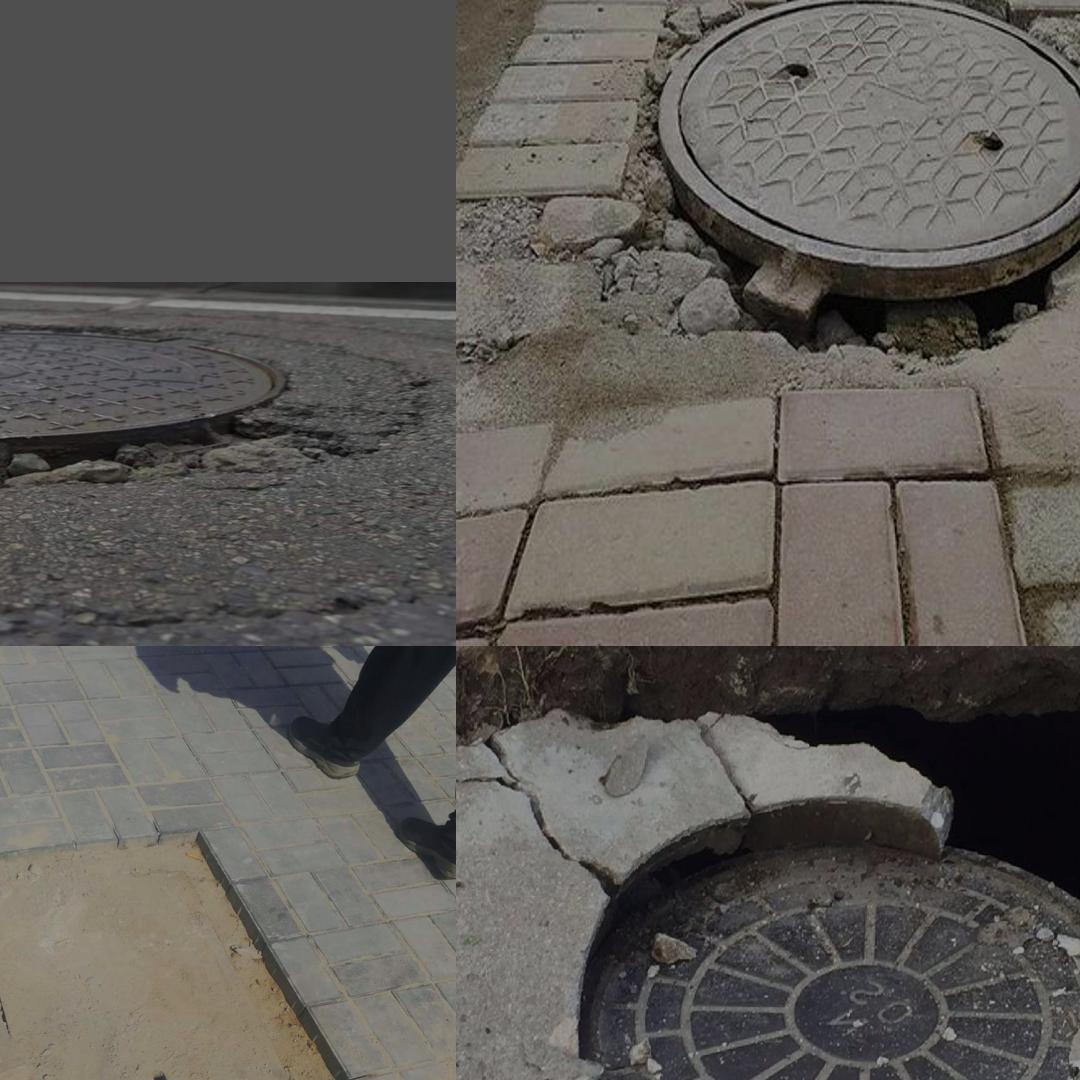circle: (464, 667, 1080, 1080), (574, 0, 1080, 441), (0, 309, 428, 530), (0, 847, 389, 1080)
